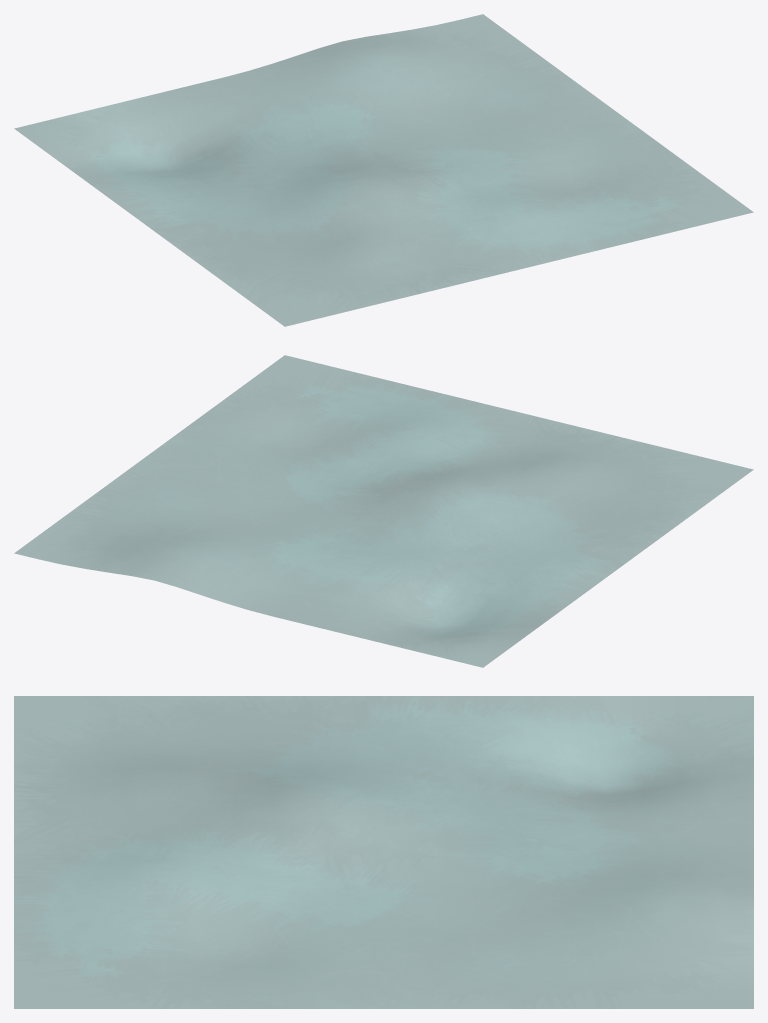
Rendered from SnowGround.fbx.
3 views of the same model, one above another, from view 1: azimuth 30°, elevation 25°; view 2: azimuth 150°, elevation 25°; view 3: azimuth 270°, elevation 25° (orthographic). The views are drawn at different scales.
Visible parts, largest first — view 1: pPlane1; view 2: pPlane1; view 3: pPlane1.
Part boxes in pixels (box(x1,y1,x2,y2)): pPlane1: box(14, 14, 753, 326); pPlane1: box(14, 355, 753, 667); pPlane1: box(14, 696, 753, 1008).
Size of the model in its own units: 17.18 by 1.26 by 17.18.
1 material, 1 textured.
